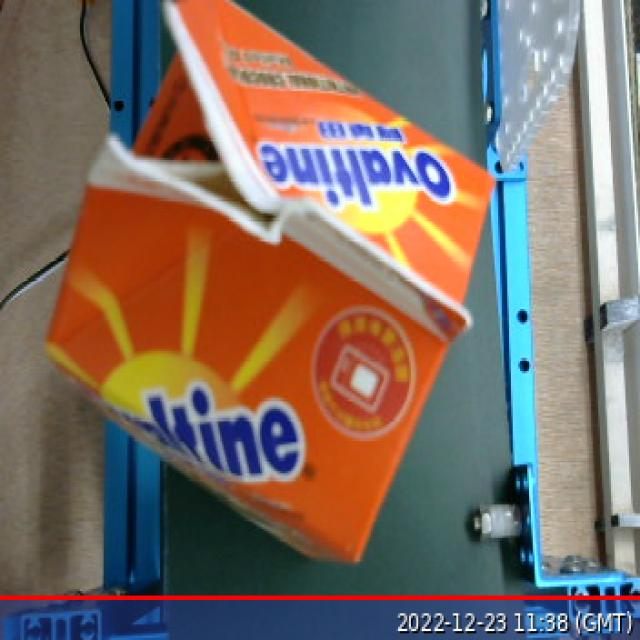non_white_jug: (22, 0, 522, 605)
